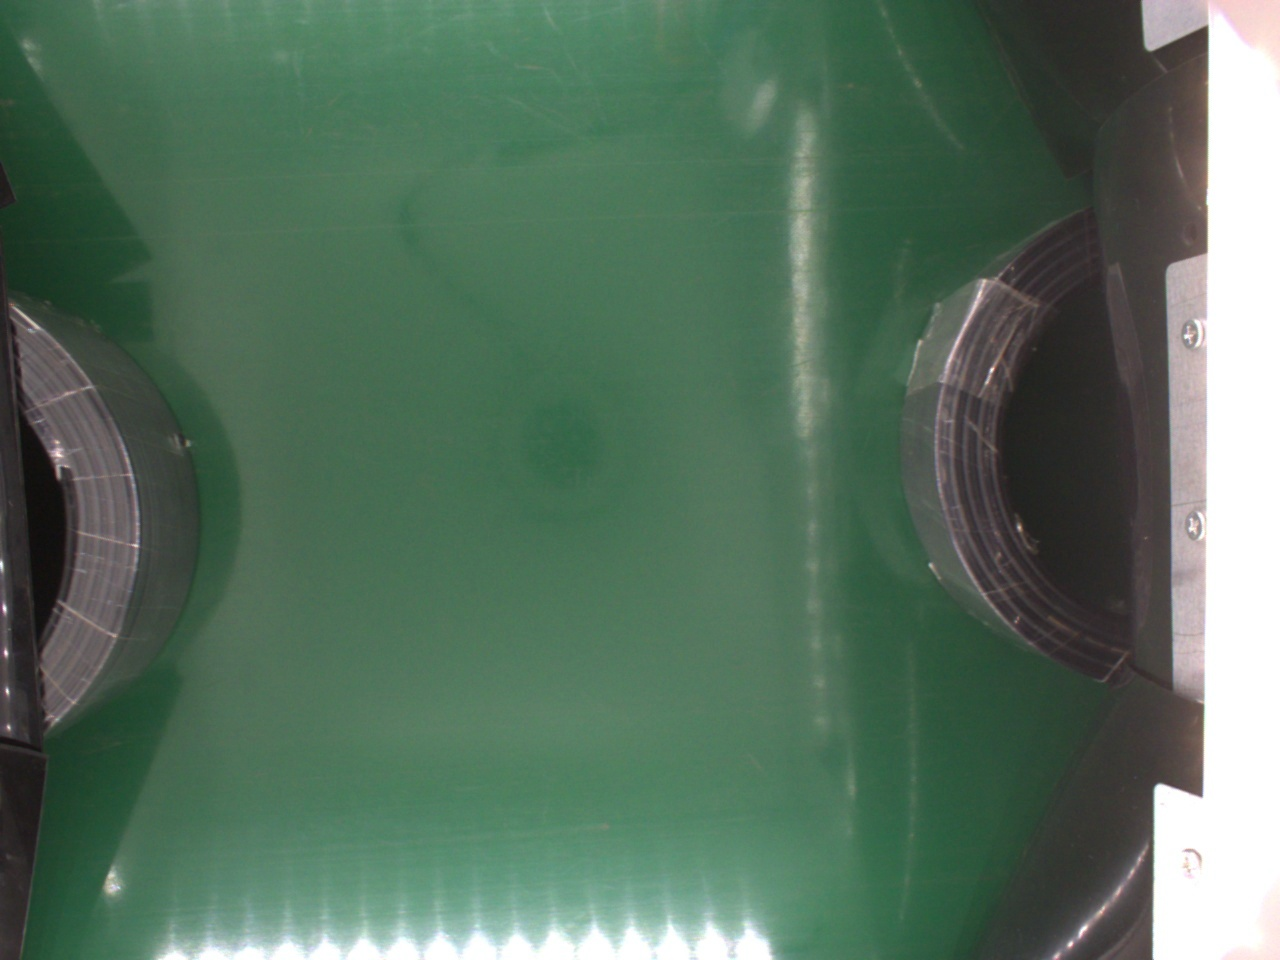black: (905, 205, 1134, 692), (10, 293, 195, 736)
